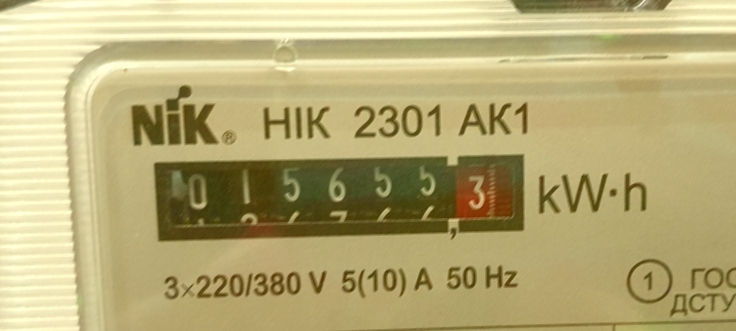0: (184, 168, 210, 210)
1: (236, 166, 256, 205)
3: (466, 172, 486, 209)
5: (278, 166, 303, 202), (371, 165, 395, 197), (418, 163, 437, 196)
6: (325, 165, 349, 202)
screen: (140, 134, 541, 257)
